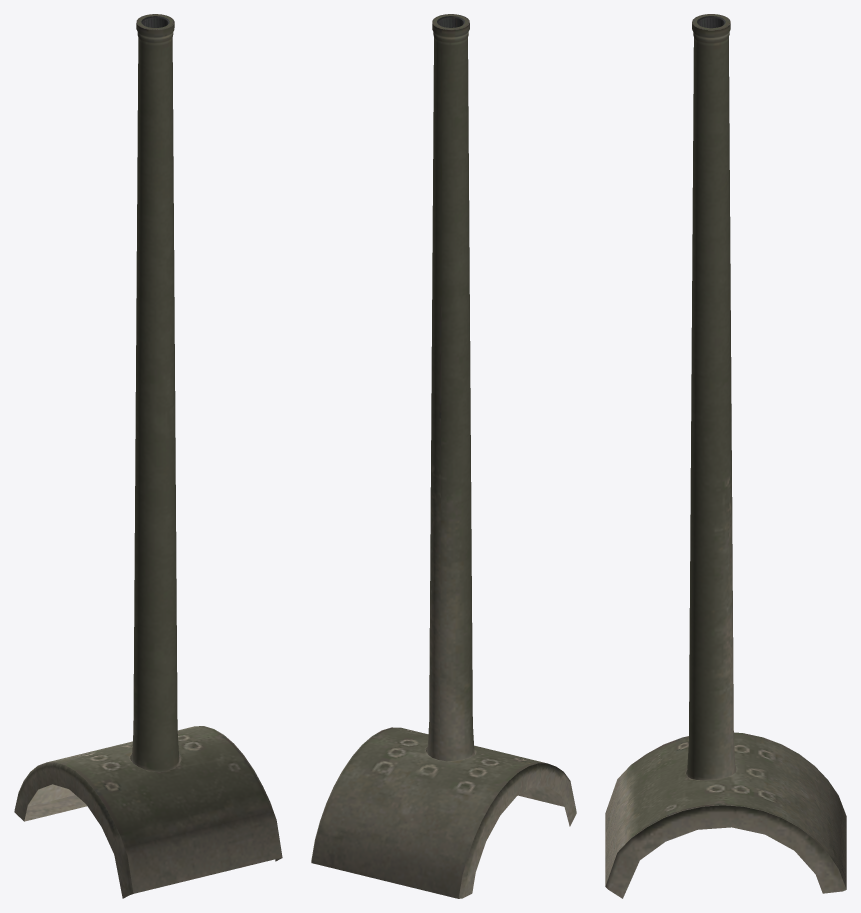
Rendered from Gun_06.glb.
3 renders of one model, left to right at view 1: azimuth 30°, elevation 25°; view 2: azimuth 150°, elevation 25°; view 3: azimuth 270°, elevation 25°, orthographic. The views are drawn at different scales.
Visible parts, largest first — view 1: set_0_group_0; view 2: set_0_group_0; view 3: set_0_group_0.
Part boxes in pixels (<box>): set_0_group_0: <box>14,14,282,898</box>; set_0_group_0: <box>311,14,576,898</box>; set_0_group_0: <box>605,14,846,898</box>.
Bounding box in the file's own units: 0.7225 × 3.73 × 0.973.
1 material, 1 textured.
